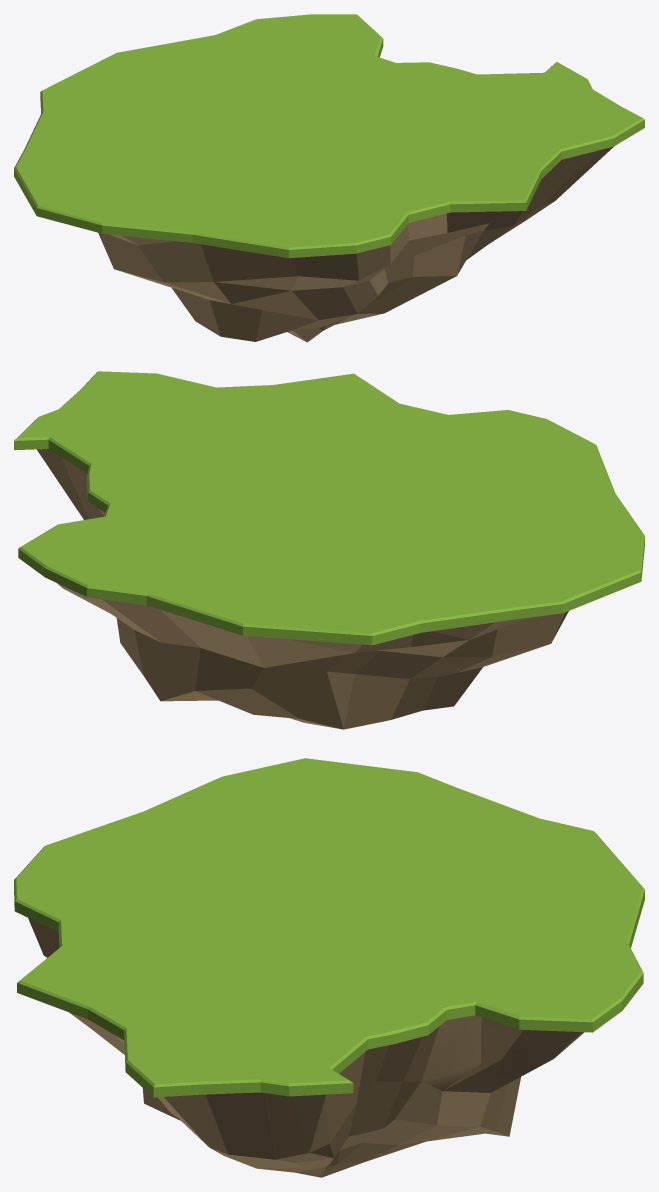
The model's file is model_polytope_floating_island.fbx.
3 views of the same model, one above another, from view 1: azimuth 30°, elevation 25°; view 2: azimuth 150°, elevation 25°; view 3: azimuth 270°, elevation 25° (orthographic). The views are drawn at different scales.
Visible parts, largest first — view 1: model_polytope_floating_island; view 2: model_polytope_floating_island; view 3: model_polytope_floating_island.
Part boxes in pixels (bbox=[...]): model_polytope_floating_island: bbox=[14, 14, 644, 342]; model_polytope_floating_island: bbox=[14, 371, 644, 729]; model_polytope_floating_island: bbox=[14, 758, 644, 1177].
Bounding box in the file's own units: 2209 × 773 × 1794.
